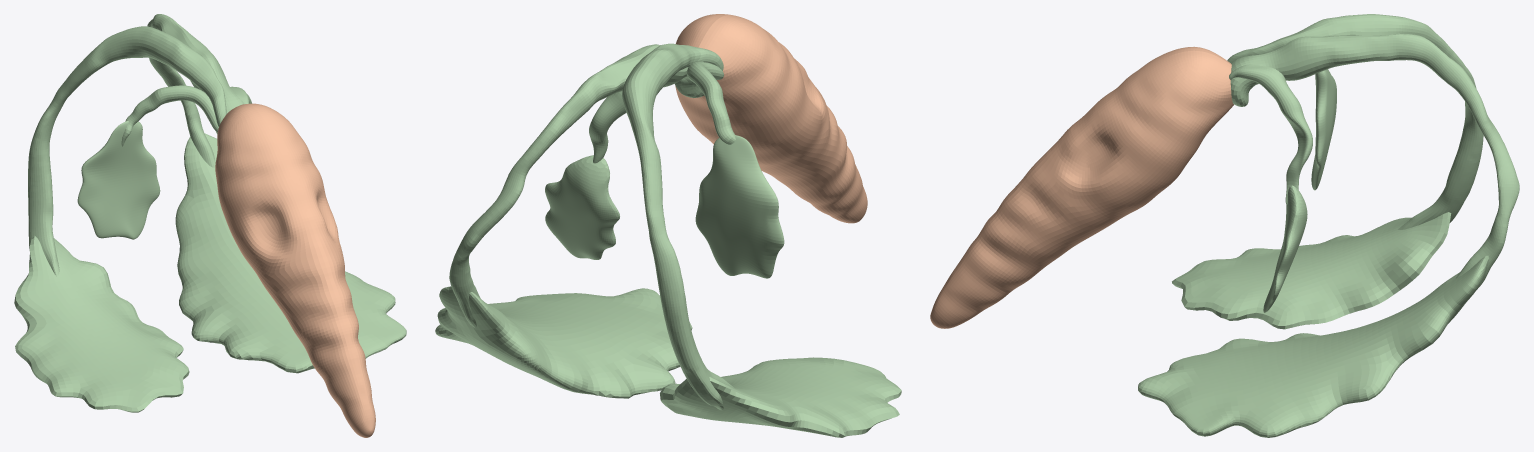
The model's file is CarrotNoT.fbx.
The picture shows the model from 3 angles, left to right: view 1: azimuth 30°, elevation 25°; view 2: azimuth 150°, elevation 25°; view 3: azimuth 270°, elevation 25°; orthographic projection. The views are drawn at different scales.
Parts seen in each view (by area): view 1: carrot; view 2: carrot; view 3: carrot.
Part boxes in pixels (bbox=[...]): carrot: bbox=[14, 14, 406, 437]; carrot: bbox=[435, 14, 901, 437]; carrot: bbox=[930, 14, 1519, 437].
Size of the model in its own units: 51.14 by 41.34 by 66.86.
